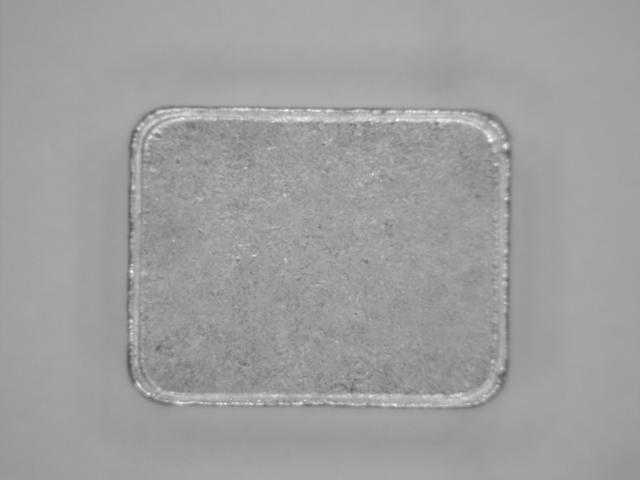nok: (115, 99, 522, 416)
